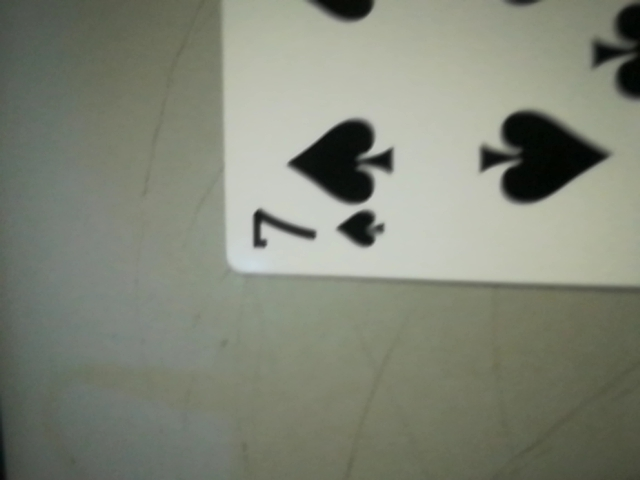ht 7: (236, 194, 404, 270)
